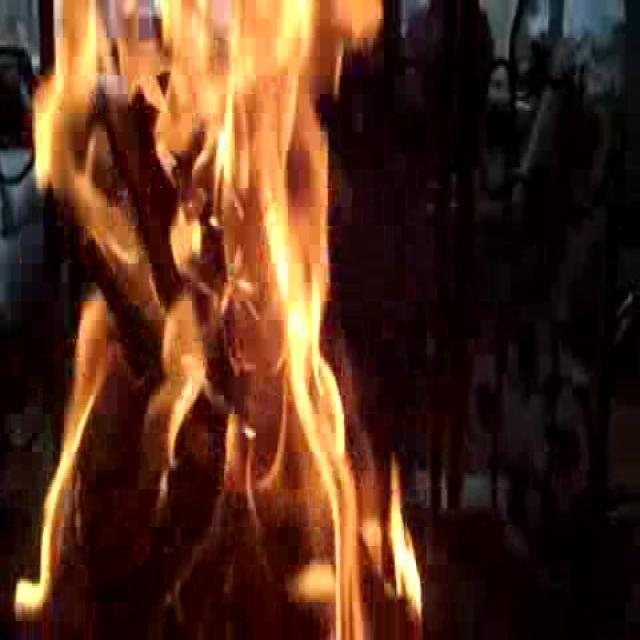fire: (37, 1, 375, 633)
